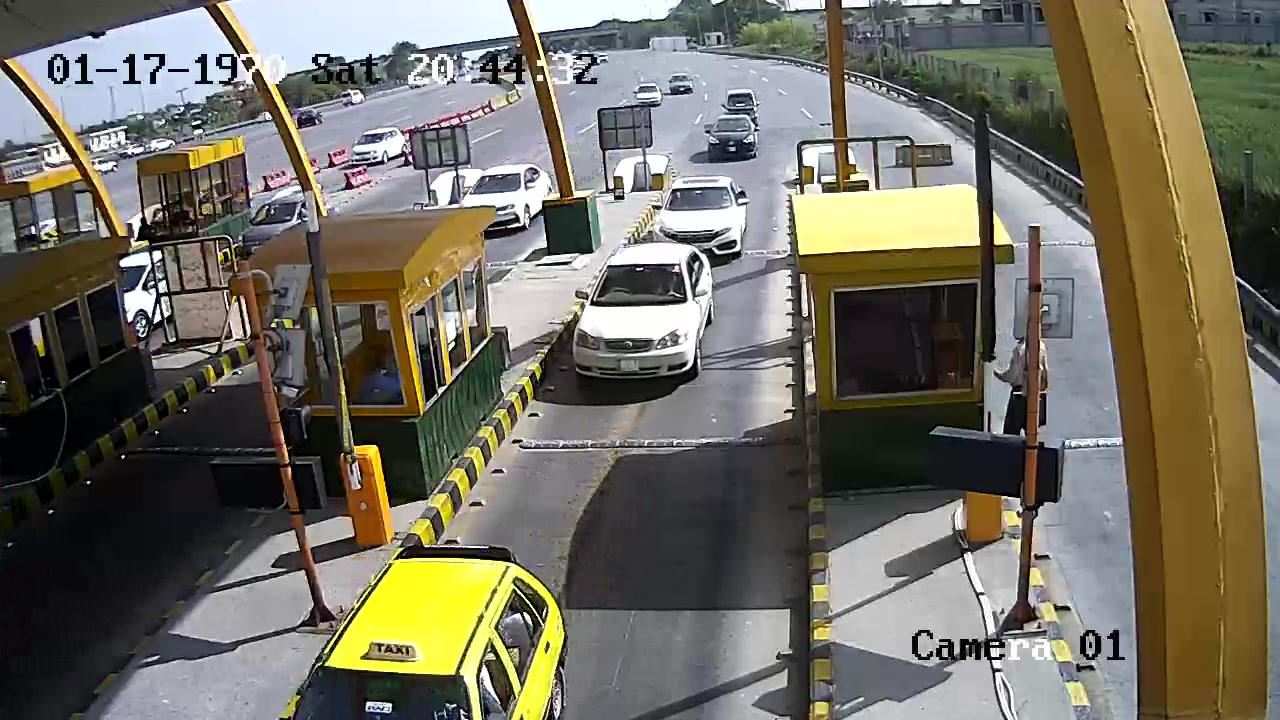F1: (565, 240, 715, 396)
